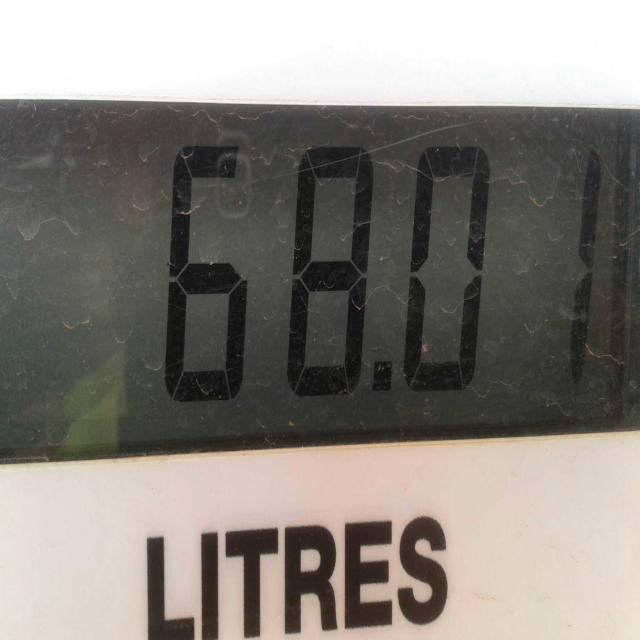.: (371, 352, 395, 398)
0: (406, 138, 485, 400)
1: (566, 136, 606, 381)
6: (162, 139, 262, 411)
8: (285, 138, 374, 406)
